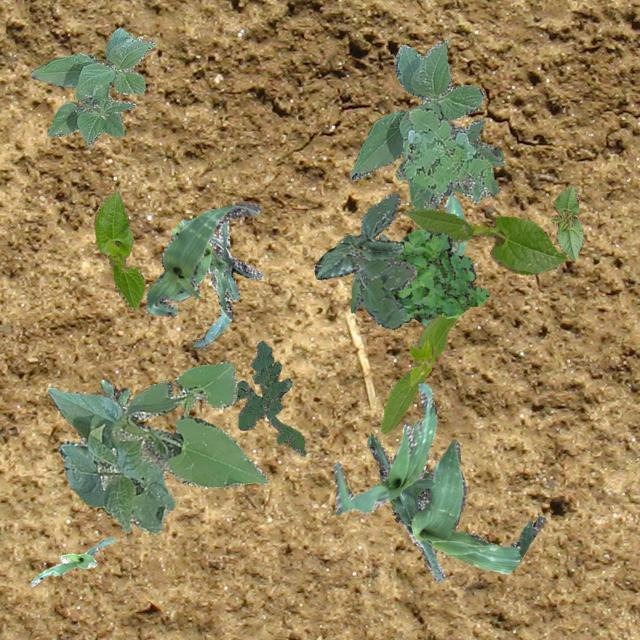crop: (46, 360, 268, 534), (348, 38, 504, 210), (366, 432, 544, 580), (29, 27, 154, 144), (332, 382, 436, 514), (146, 202, 260, 316), (162, 218, 262, 346), (378, 190, 464, 324), (404, 208, 566, 274), (379, 312, 456, 432), (92, 188, 144, 310), (30, 536, 114, 586), (314, 232, 402, 278), (550, 184, 582, 260)
weed: (394, 108, 498, 206), (384, 228, 488, 322), (350, 192, 416, 328), (233, 340, 304, 456), (100, 378, 128, 408)
